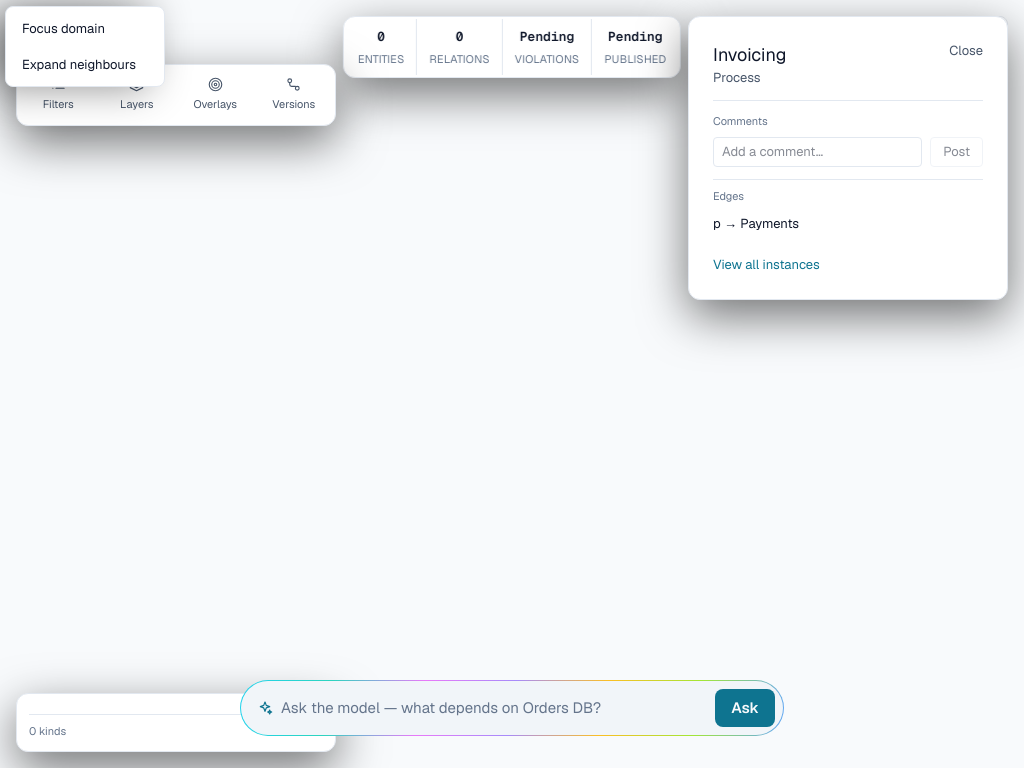
Test: ExplorerInteractions › shows the empty-state notice when a domain focus returns zero members
Click the menu item "Focus domain": (85, 29) [10,11,160,46]
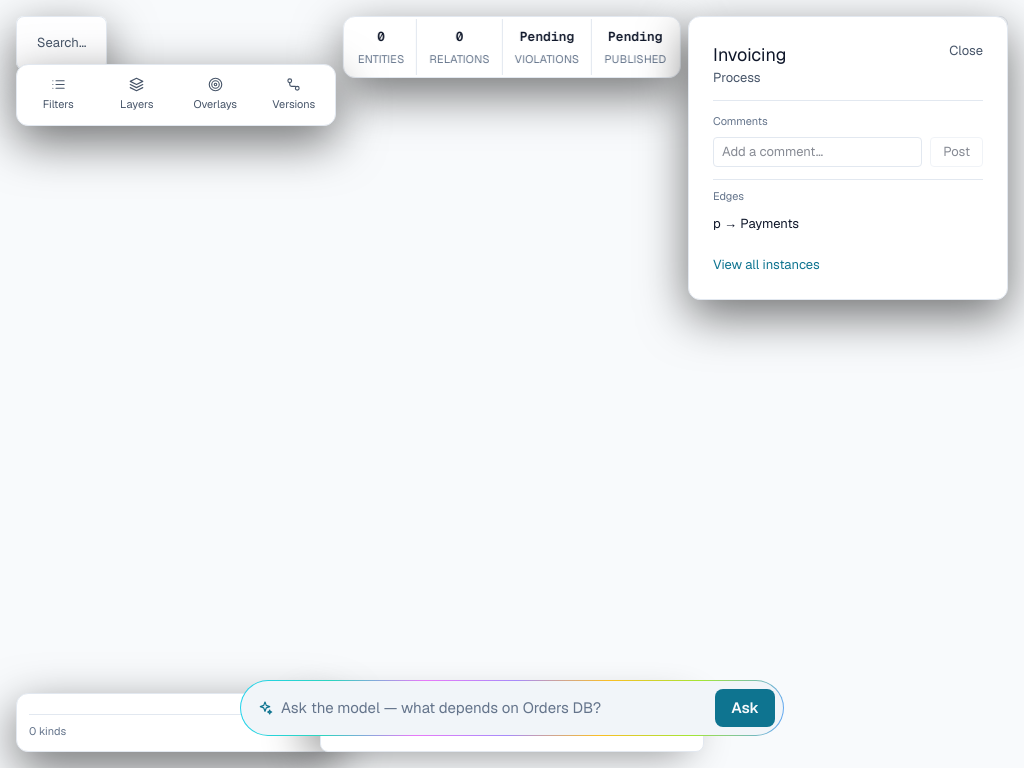
Expected: the text "This domain has no members" is shown, [333,720,506,738]
